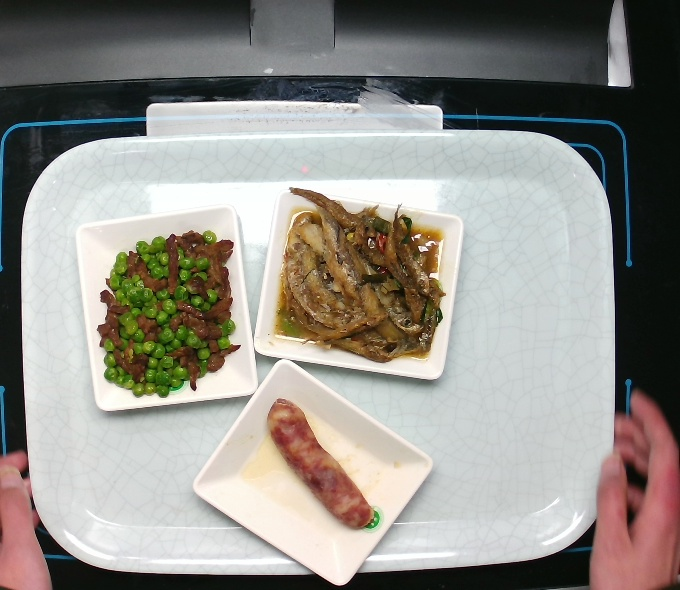wcq-CanDouNiuRou: (88, 226, 248, 399)
wcq-XiangChang: (262, 397, 379, 539)
wcq-XiaoJiYu: (275, 183, 443, 365)
